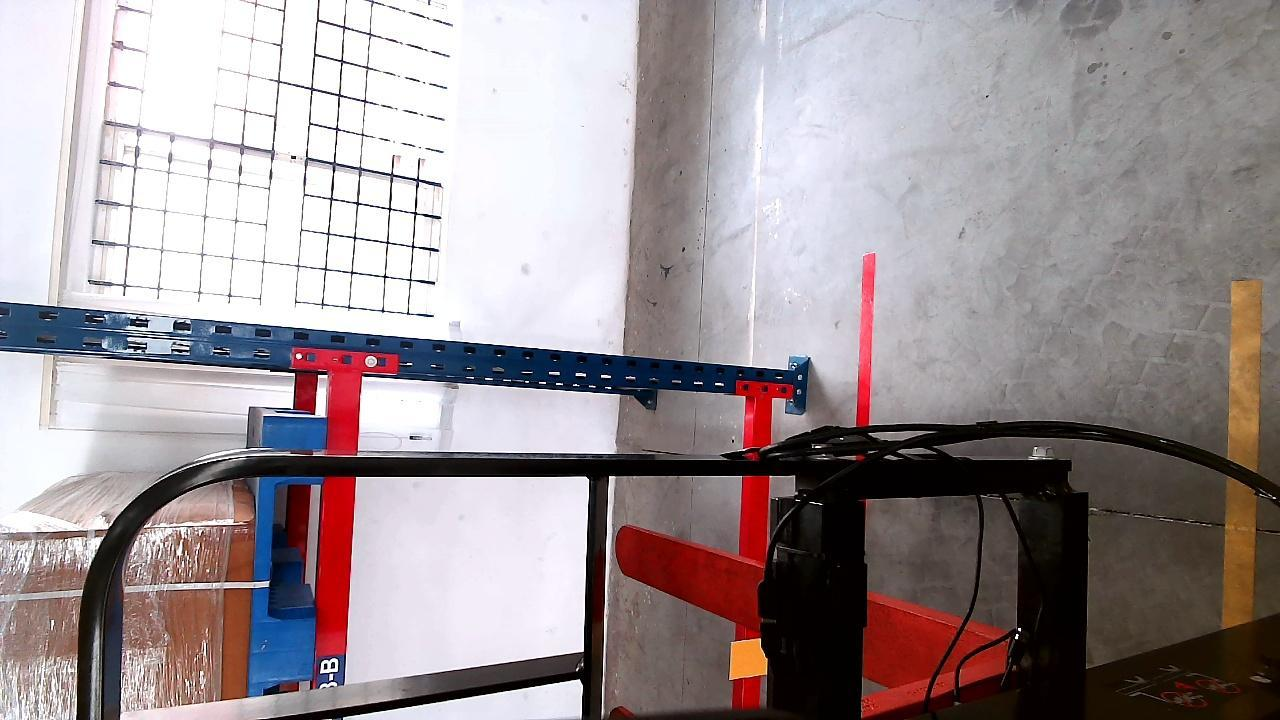red_line: (852, 254, 876, 425)
yellow_line: (1225, 280, 1261, 625)
